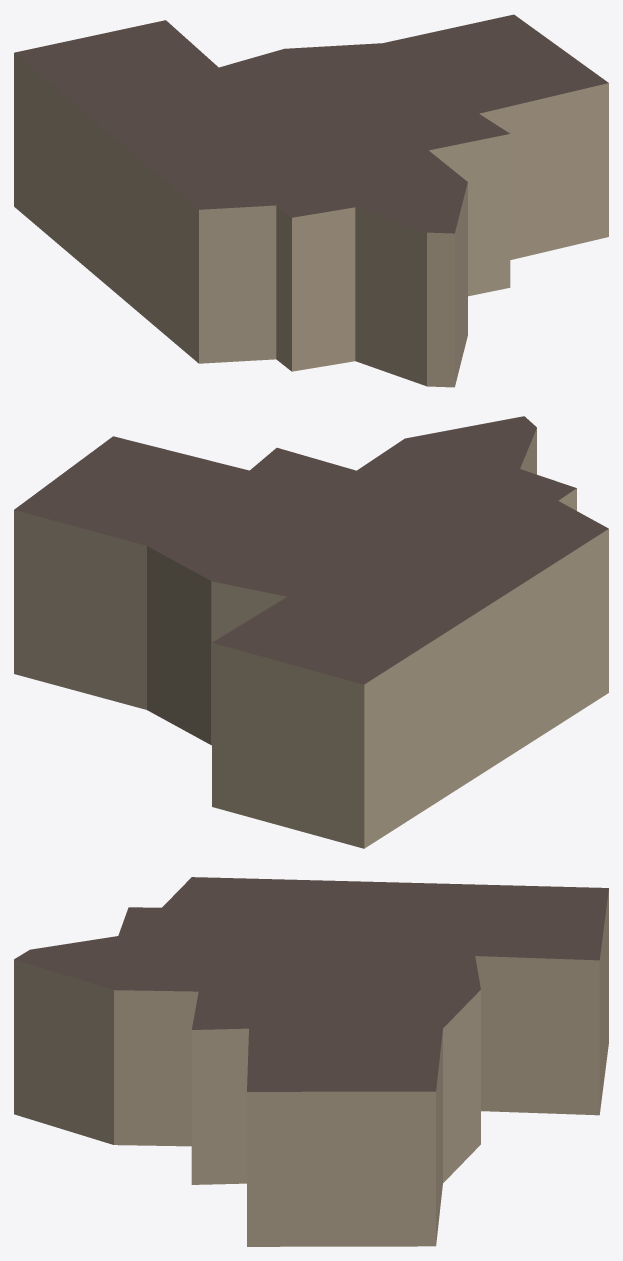
The picture shows the model from 3 angles, top to bottom: view 1: azimuth 30°, elevation 25°; view 2: azimuth 150°, elevation 25°; view 3: azimuth 270°, elevation 25°; orthographic projection. The views are drawn at different scales.
Parts seen in each view (by area): view 1: HP-w1515071126; view 2: HP-w1515071126; view 3: HP-w1515071126.
Part boxes in pixels (<box>): HP-w1515071126: <box>14,14,608,387</box>; HP-w1515071126: <box>14,416,608,848</box>; HP-w1515071126: <box>14,877,608,1246</box>.
Size of the model in its own units: 26.77 by 9 by 31.32.
